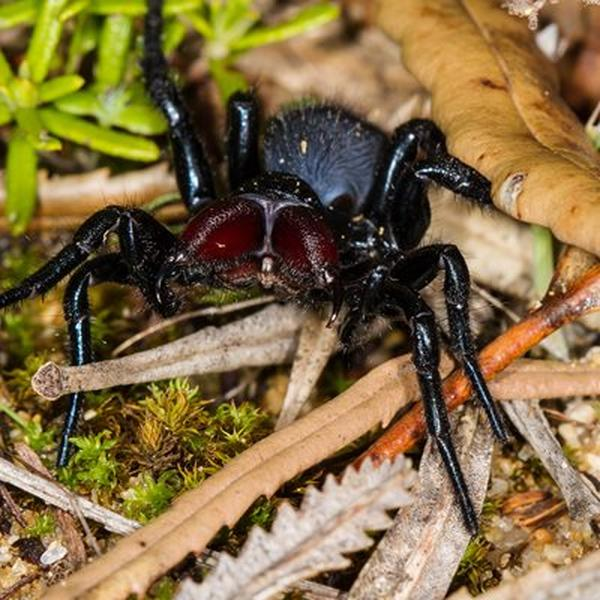Red Headed Mouse Spider: (25, 14, 502, 527)
